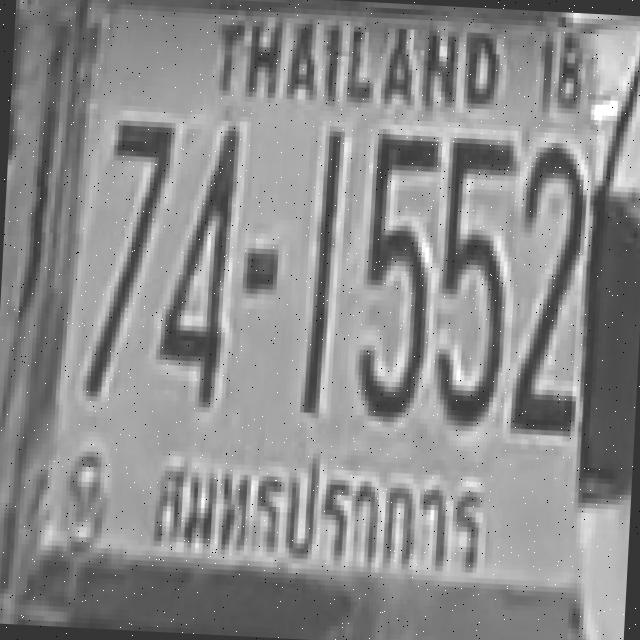2: (512, 142, 590, 412)
4: (154, 120, 240, 406)
5: (430, 132, 516, 422)
7: (82, 116, 172, 398), (90, 117, 172, 387), (97, 117, 172, 337), (96, 116, 174, 306), (104, 115, 172, 289)
SamutPrakan: (134, 438, 504, 601)
